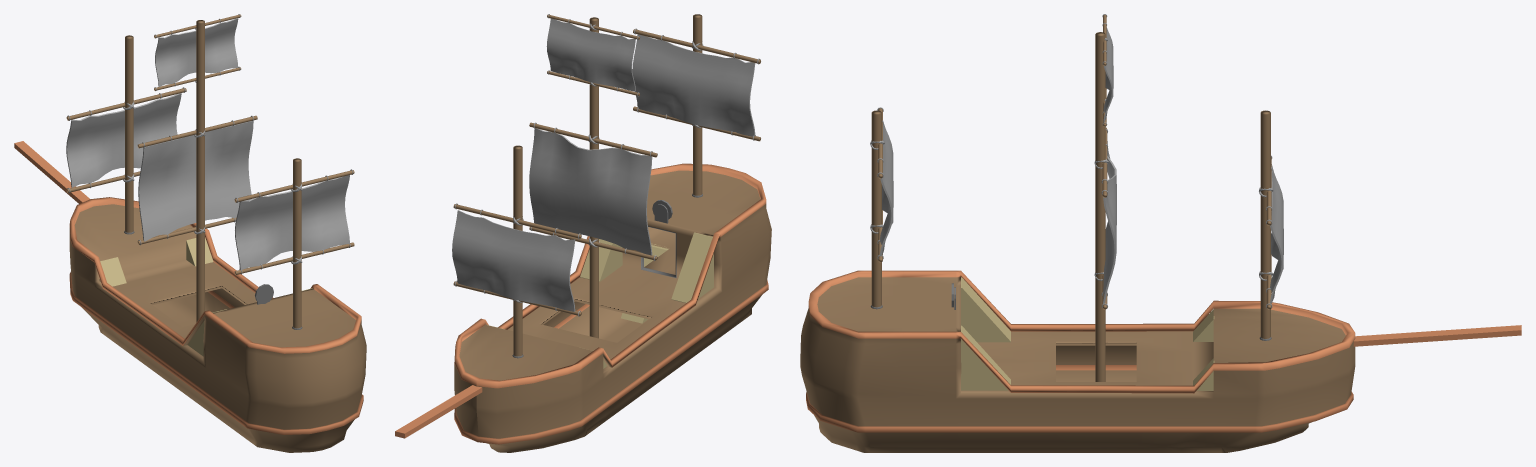
Rendered from ShipTest.fbx.
3 renders of one model, left to right at view 1: azimuth 30°, elevation 25°; view 2: azimuth 150°, elevation 25°; view 3: azimuth 270°, elevation 25°, orthographic. The views are drawn at different scales.
Parts seen in each view (by area): view 1: ShipBody, pCube13, pCube15, pCube12, pCube14, Mast_Mid, Mast_Front, Mast_Rear, pCube16, Mast_Front2, Mast_Front7, Mast_Front3 (+4 smaller); view 2: ShipBody, pCube13, pCube15, pCube12, pCube14, Ramp_rear, Mast_Mid, Mast_Front, pCube16, Mast_Rear, Ramp_rear1, Mast_Front3 (+4 smaller); view 3: ShipBody, Mast_Mid, Mast_Front, Mast_Rear, pCube16, Ramp_rear, Ramp_rear1, pCube13, pCube12, pCube15.
Part boxes in pixels (left/top/right/bottom): ShipBody: left=69, top=197, right=366, bottom=452; pCube13: left=138, top=121, right=253, bottom=241; pCube15: left=235, top=175, right=349, bottom=270; pCube12: left=66, top=93, right=181, bottom=187; pCube14: left=155, top=18, right=238, bottom=86; Mast_Mid: left=196, top=20, right=204, bottom=322; Mast_Front: left=125, top=35, right=133, bottom=232; Mast_Rear: left=293, top=158, right=301, bottom=328; pCube16: left=14, top=141, right=89, bottom=203; Mast_Front2: left=66, top=88, right=186, bottom=120; Mast_Front7: left=234, top=170, right=354, bottom=202; Mast_Front3: left=137, top=115, right=257, bottom=148; ShipBody: left=454, top=163, right=771, bottom=452; pCube13: left=529, top=128, right=652, bottom=255; pCube15: left=632, top=34, right=755, bottom=136; pCube12: left=452, top=210, right=575, bottom=311; pCube14: left=546, top=18, right=635, bottom=91; Ramp_rear: left=671, top=232, right=713, bottom=302; Mast_Mid: left=589, top=17, right=598, bottom=338; Mast_Front: left=513, top=145, right=522, bottom=356; pCube16: left=395, top=385, right=482, bottom=438; Mast_Rear: left=693, top=14, right=702, bottom=195; Ramp_rear1: left=580, top=239, right=622, bottom=281; Mast_Front3: left=529, top=122, right=657, bottom=157; ShipBody: left=800, top=270, right=1355, bottom=452; Mast_Mid: left=1095, top=32, right=1105, bottom=381; Mast_Front: left=1260, top=110, right=1270, bottom=338; Mast_Rear: left=871, top=110, right=881, bottom=307; pCube16: left=1353, top=325, right=1521, bottom=346; Ramp_rear: left=961, top=277, right=1010, bottom=342; Ramp_rear1: left=961, top=325, right=1010, bottom=390; pCube13: left=1103, top=141, right=1116, bottom=303; pCube12: left=1270, top=164, right=1283, bottom=303; pCube15: left=879, top=123, right=893, bottom=256.
Size of the model in its own units: 13.14 by 35.68 by 59.34.
2 materials, 1 textured.
